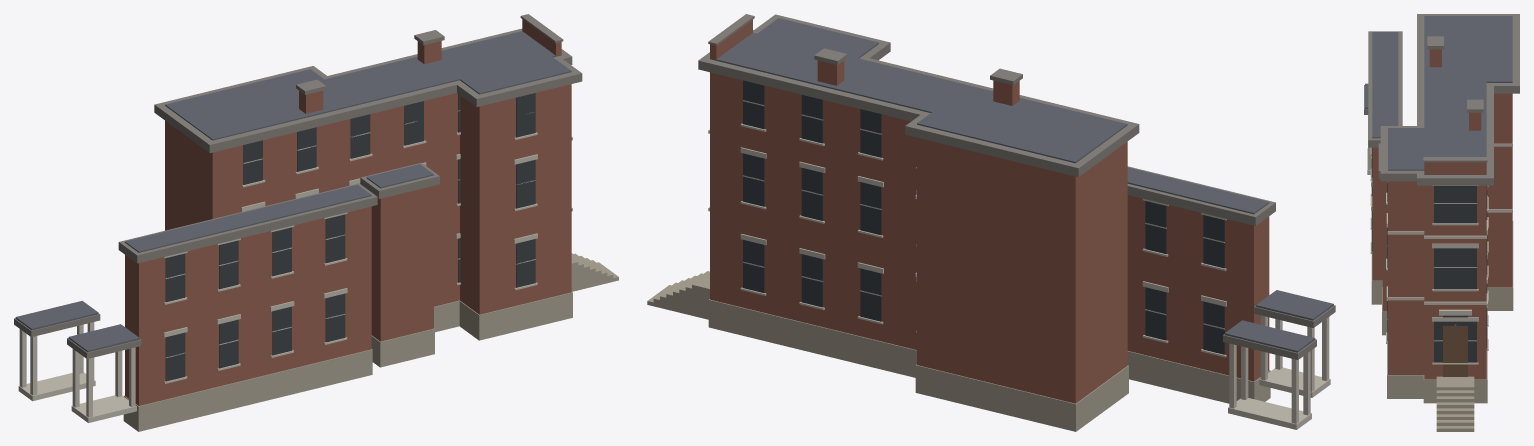
The model's file is reid_house_2013_prairie__draft_1904.glb.
The picture shows the model from 3 angles, left to right: view 1: azimuth 30°, elevation 25°; view 2: azimuth 150°, elevation 25°; view 3: azimuth 270°, elevation 25°; orthographic projection. The views are drawn at different scales.
Visible parts, largest first — view 1: reid_house_2013_prairie__draft_1904; view 2: reid_house_2013_prairie__draft_1904; view 3: reid_house_2013_prairie__draft_1904.
Part boxes in pixels (x1,y1,x2,y2): reid_house_2013_prairie__draft_1904: [14, 14, 618, 431]; reid_house_2013_prairie__draft_1904: [647, 14, 1335, 431]; reid_house_2013_prairie__draft_1904: [1364, 14, 1519, 431].
Size of the model in its own units: 30.45 by 13.34 by 7.5.
